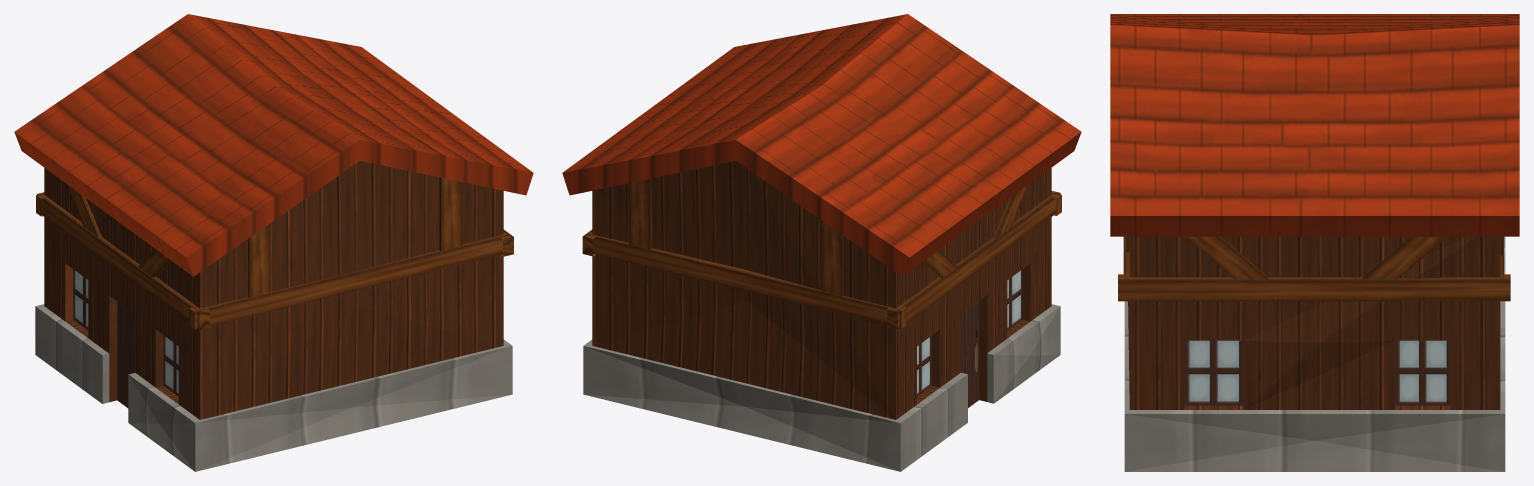
File: co_Building08.fbx
The picture shows the model from 3 angles, left to right: view 1: azimuth 30°, elevation 25°; view 2: azimuth 150°, elevation 25°; view 3: azimuth 270°, elevation 25°; orthographic projection. The views are drawn at different scales.
Parts seen in each view (by area): view 1: Building08; view 2: Building08; view 3: Building08.
Part boxes in pixels (box(x1,y1,x2,y2)): Building08: box(14, 14, 533, 471); Building08: box(562, 14, 1081, 471); Building08: box(1110, 14, 1519, 471).
Size of the model in its own units: 2408 by 1972 by 2064.
